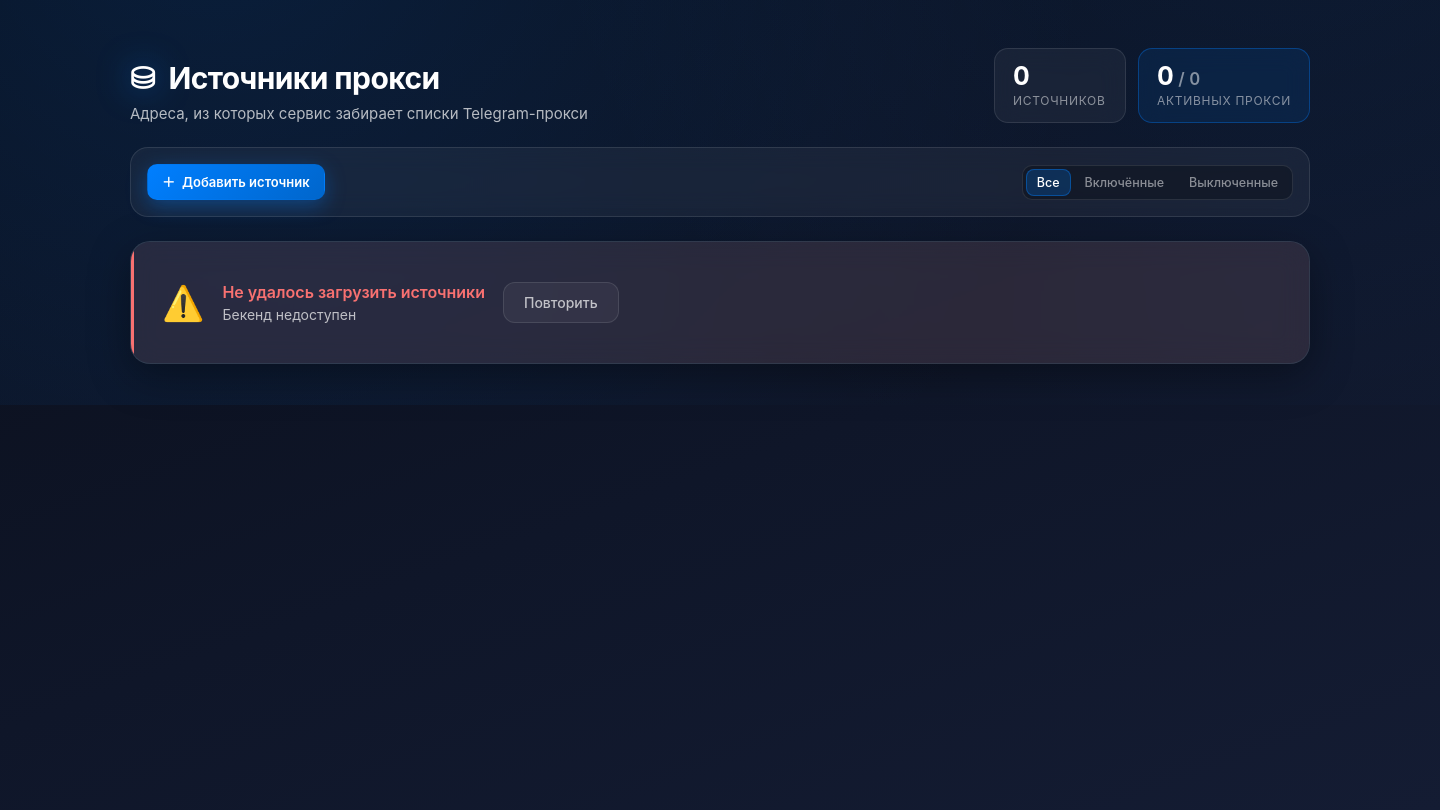
Test: список источников › показывает ошибку загрузки и повторяет запрос по кнопке
The image size is (1440, 810).
Expected: the text "Не удалось загрузить источники" is shown, [222,282,485,302]
Step 1. Click the button "Повторить" → (561, 302), box [503,282,619,323]
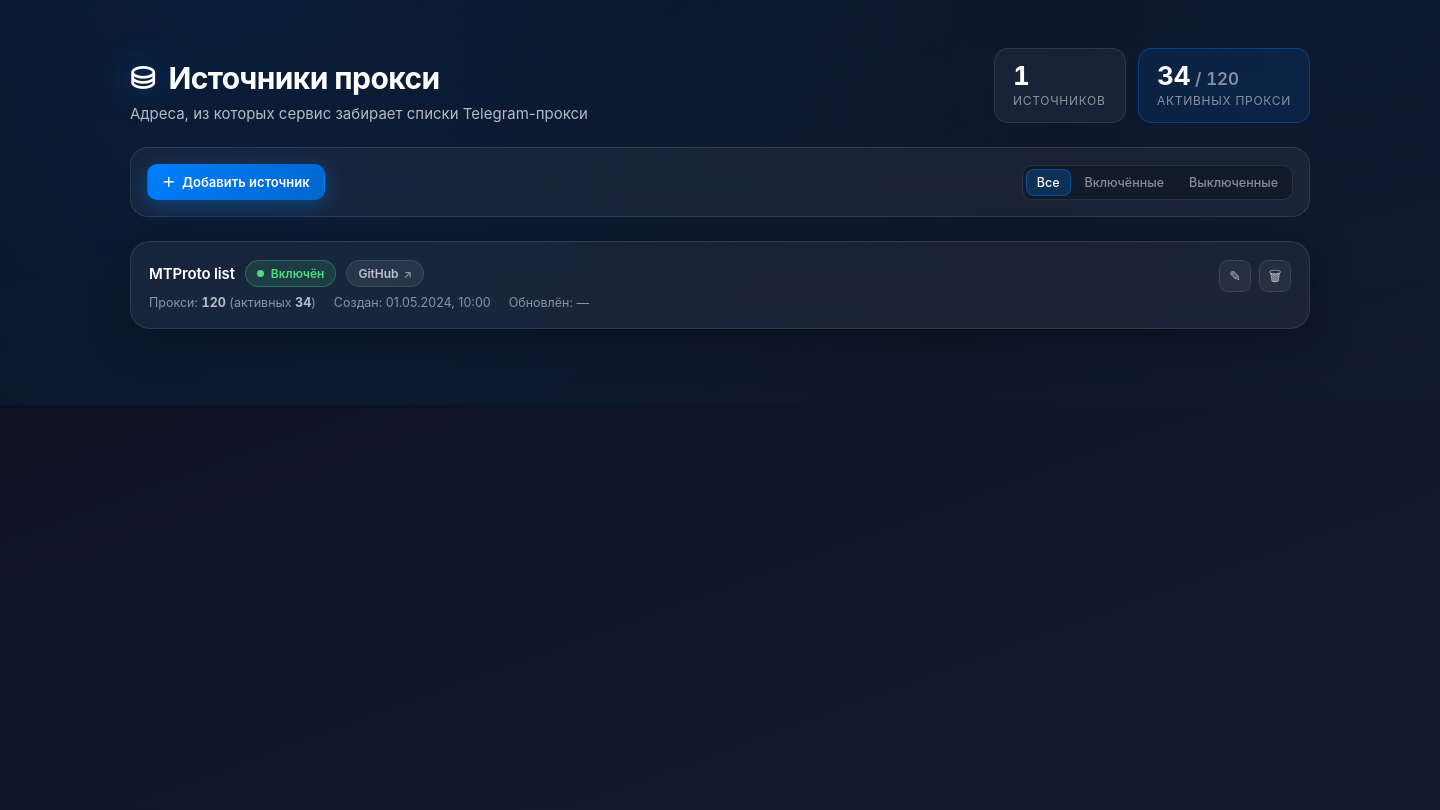
Expected: the text "MTProto list" is shown, [149,264,235,283]
